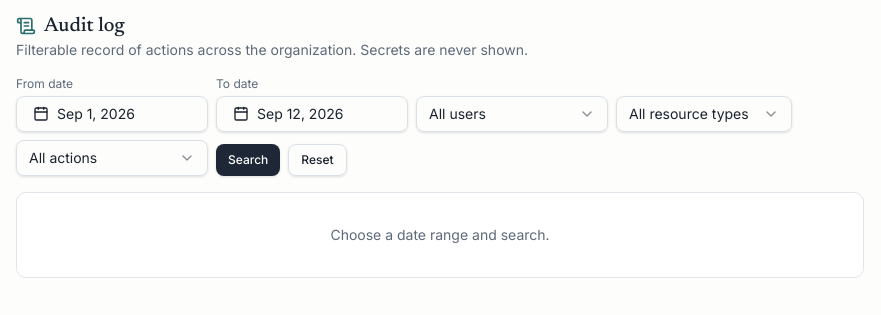
it: AdminAudit › renders list errors with retry and correlation id
Click the button "Search" at point(248, 160), box [216, 144, 280, 176]
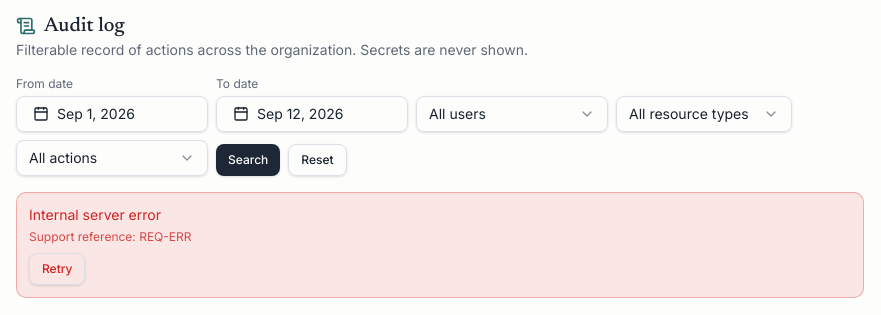
Expected: the text "Internal server error" is shown, [29, 206, 161, 223]
Expected: the text "Support reference: REQ-ERR" is shown, [29, 229, 192, 244]
Expected: the button "Retry" is shown, [29, 253, 86, 285]
